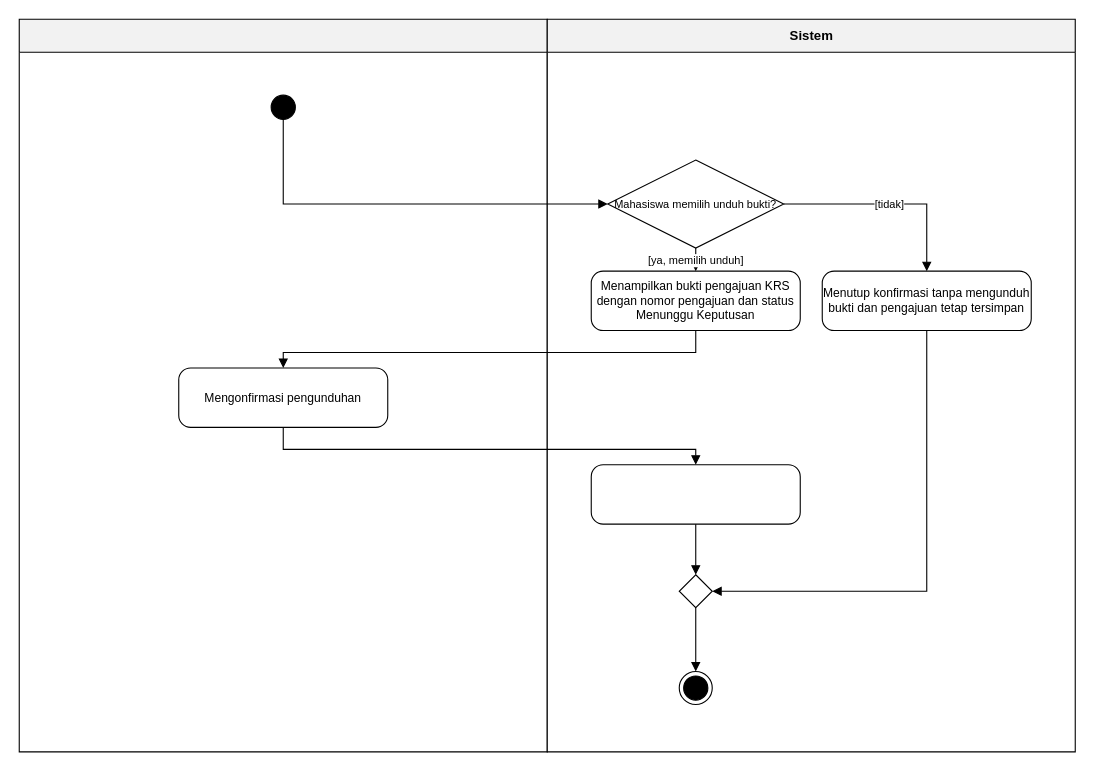
The diagram is 1095 pixels wide and 771 high, and some of its shapes have lost their labels. Here are the shapes that lost their labels. From the top down, the box of each, then its label:
(18, 18, 547, 752): Mahasiswa
(590, 464, 800, 524): Mengunduh bukti pengajuan KRS
